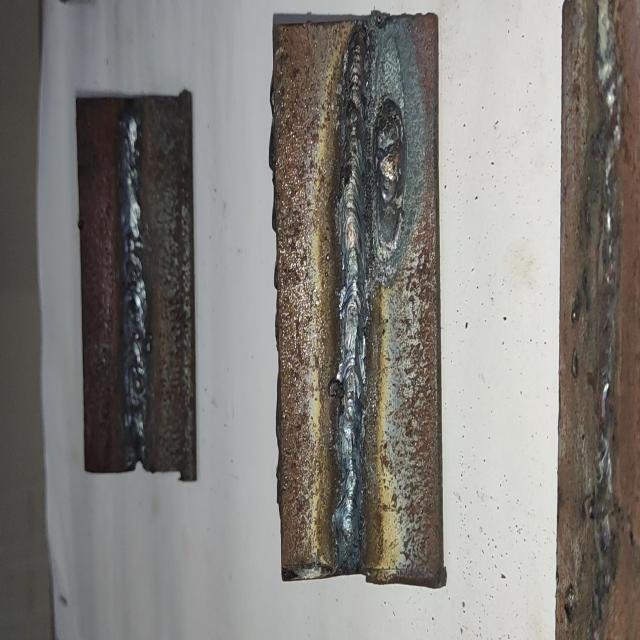Bad Weld: (342, 44, 368, 549)
Defect: (596, 3, 618, 634), (333, 85, 409, 242)
Good Weld: (119, 110, 146, 459)
